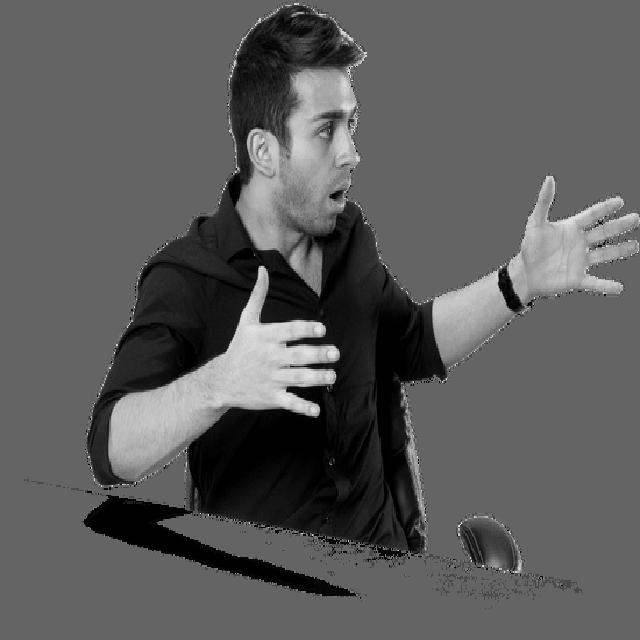Fear: (291, 67, 359, 238)
